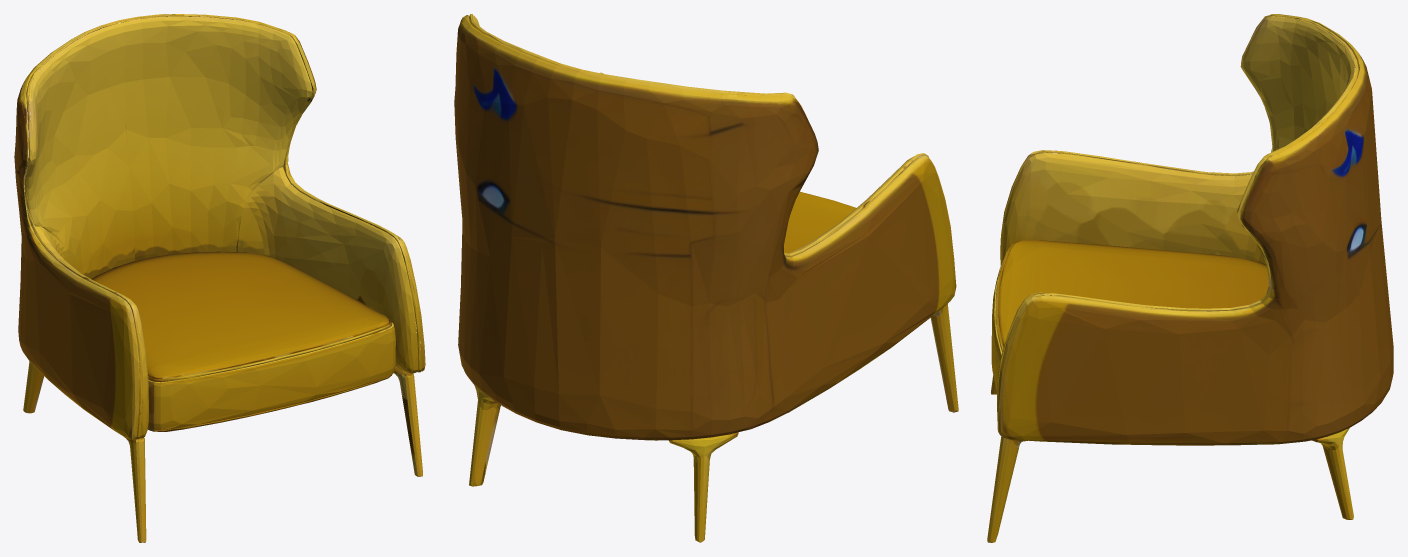
Rendered from edited_mesh.glb.
The picture shows the model from 3 angles, left to right: view 1: azimuth 30°, elevation 25°; view 2: azimuth 150°, elevation 25°; view 3: azimuth 270°, elevation 25°; orthographic projection. The views are drawn at different scales.
Visible parts, largest first — view 1: solid_001_wire; view 2: solid_001_wire; view 3: solid_001_wire.
Part boxes in pixels (x1,y1,x2,y2): solid_001_wire: (14, 14, 425, 542); solid_001_wire: (454, 14, 958, 542); solid_001_wire: (987, 14, 1393, 542).
Size of the model in its own units: 1.17 by 1.37 by 1.26.
Materials: 1 (1 with a texture image).
